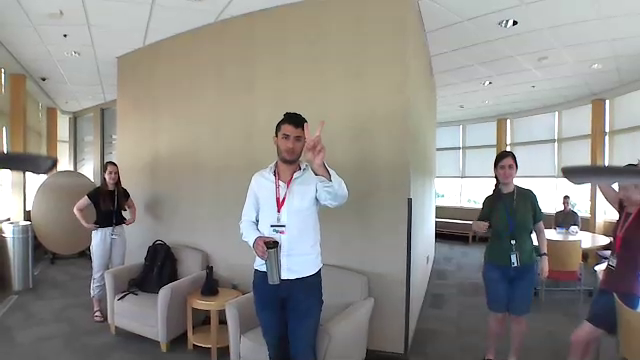peace: (294, 112, 331, 166)
